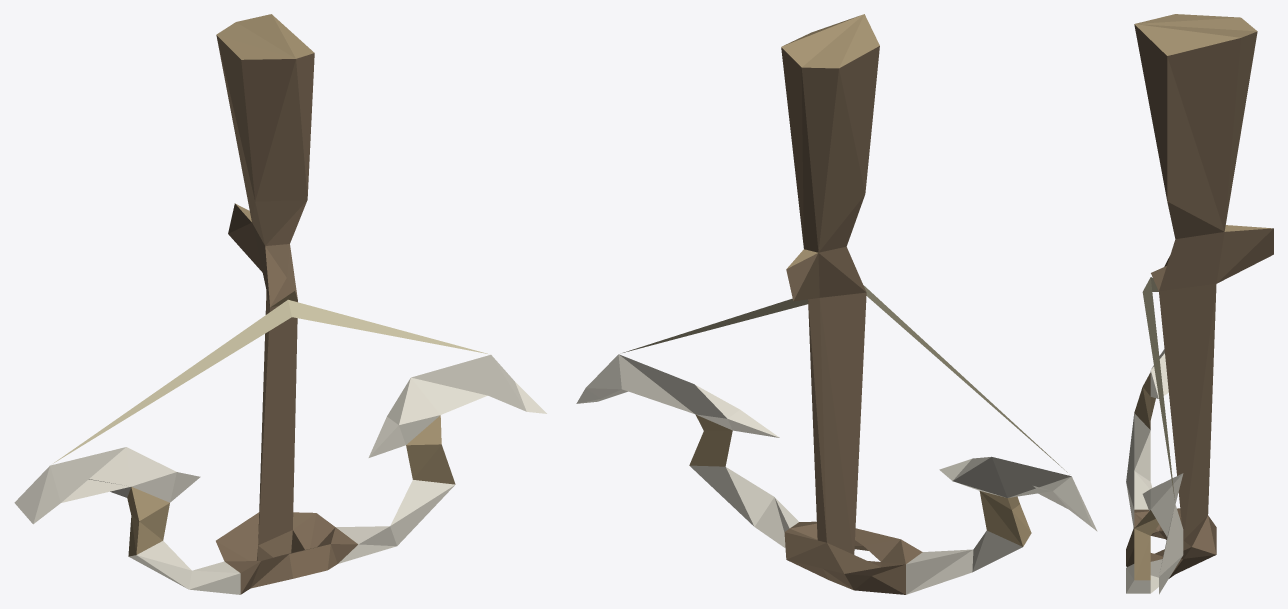
The model's file is player_armadyl_crossbow.glb.
3 renders of one model, left to right at view 1: azimuth 30°, elevation 25°; view 2: azimuth 150°, elevation 25°; view 3: azimuth 270°, elevation 25°, orthographic. The views are drawn at different scales.
Bounding box in the file's own units: 73.99 × 73 × 17.99.
Materials: 1 (1 with a texture image).
